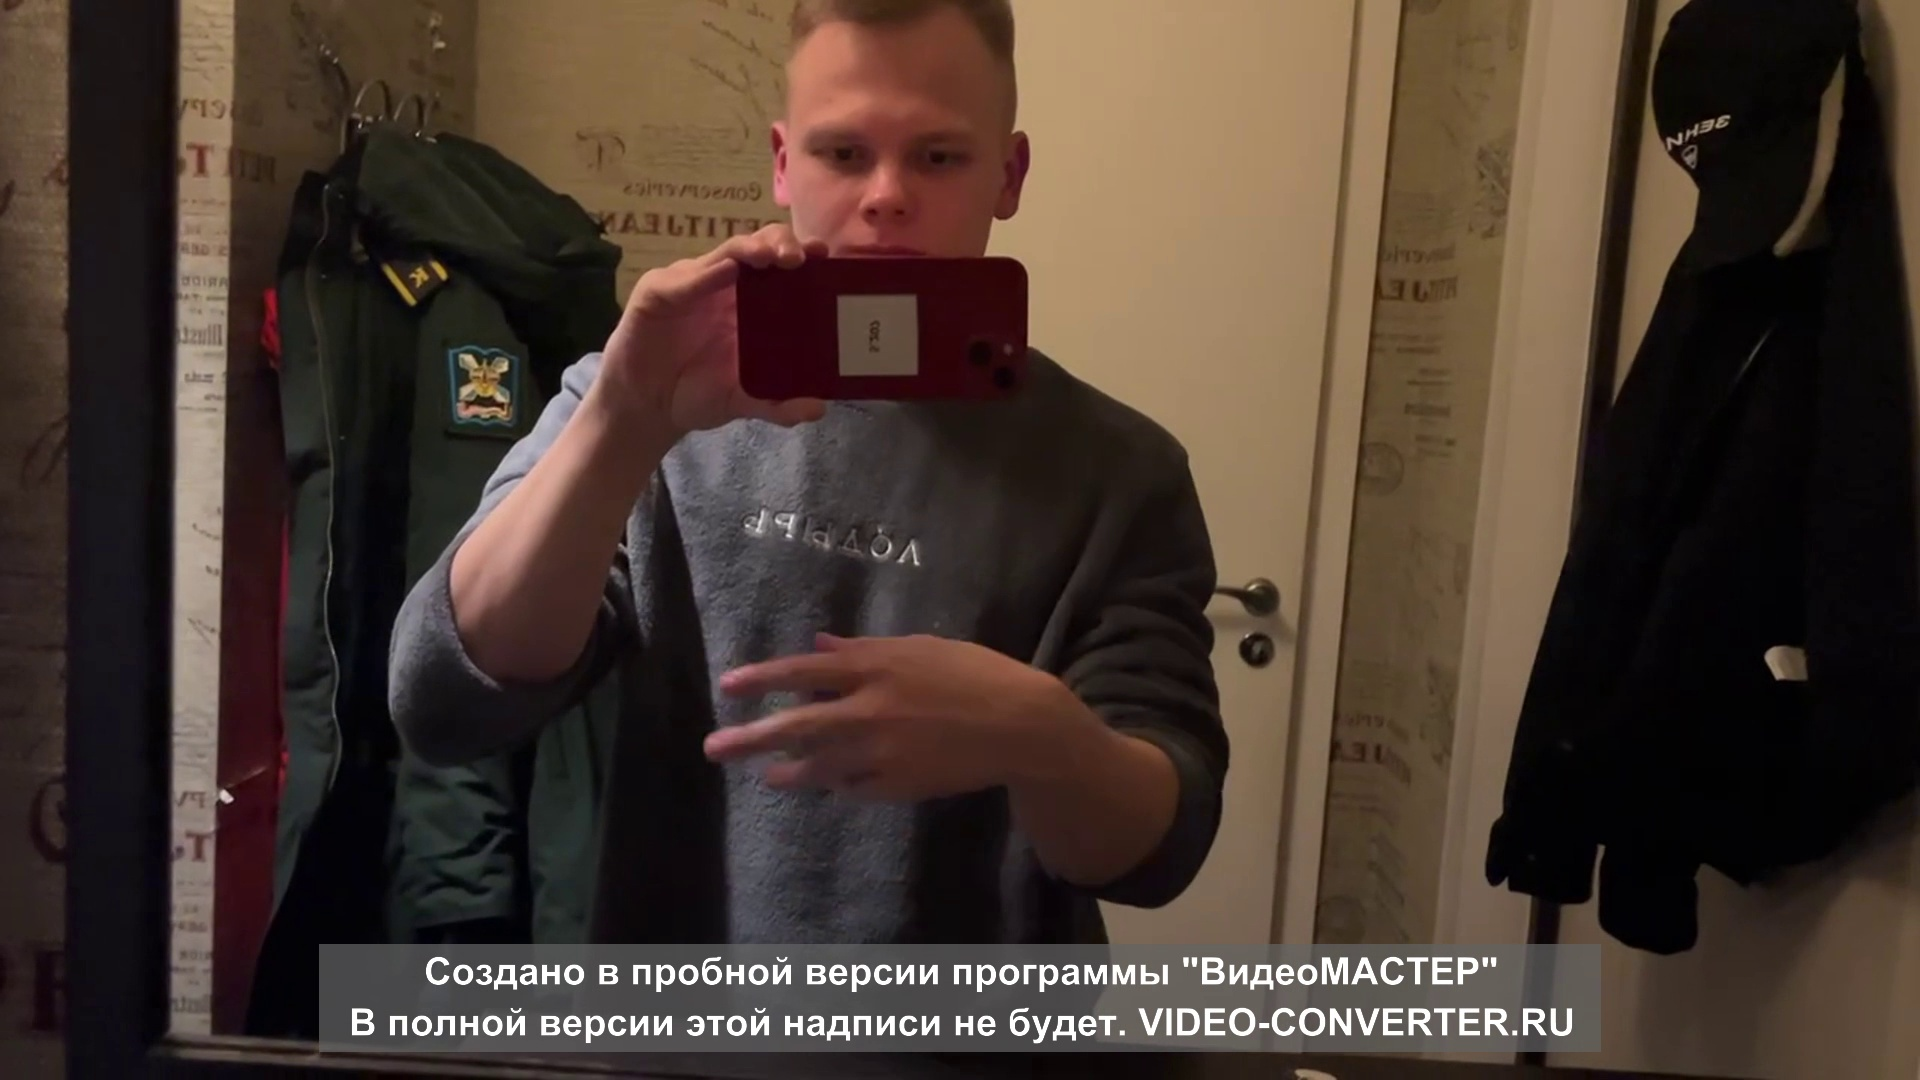Кисть: (704, 629, 1030, 807)
